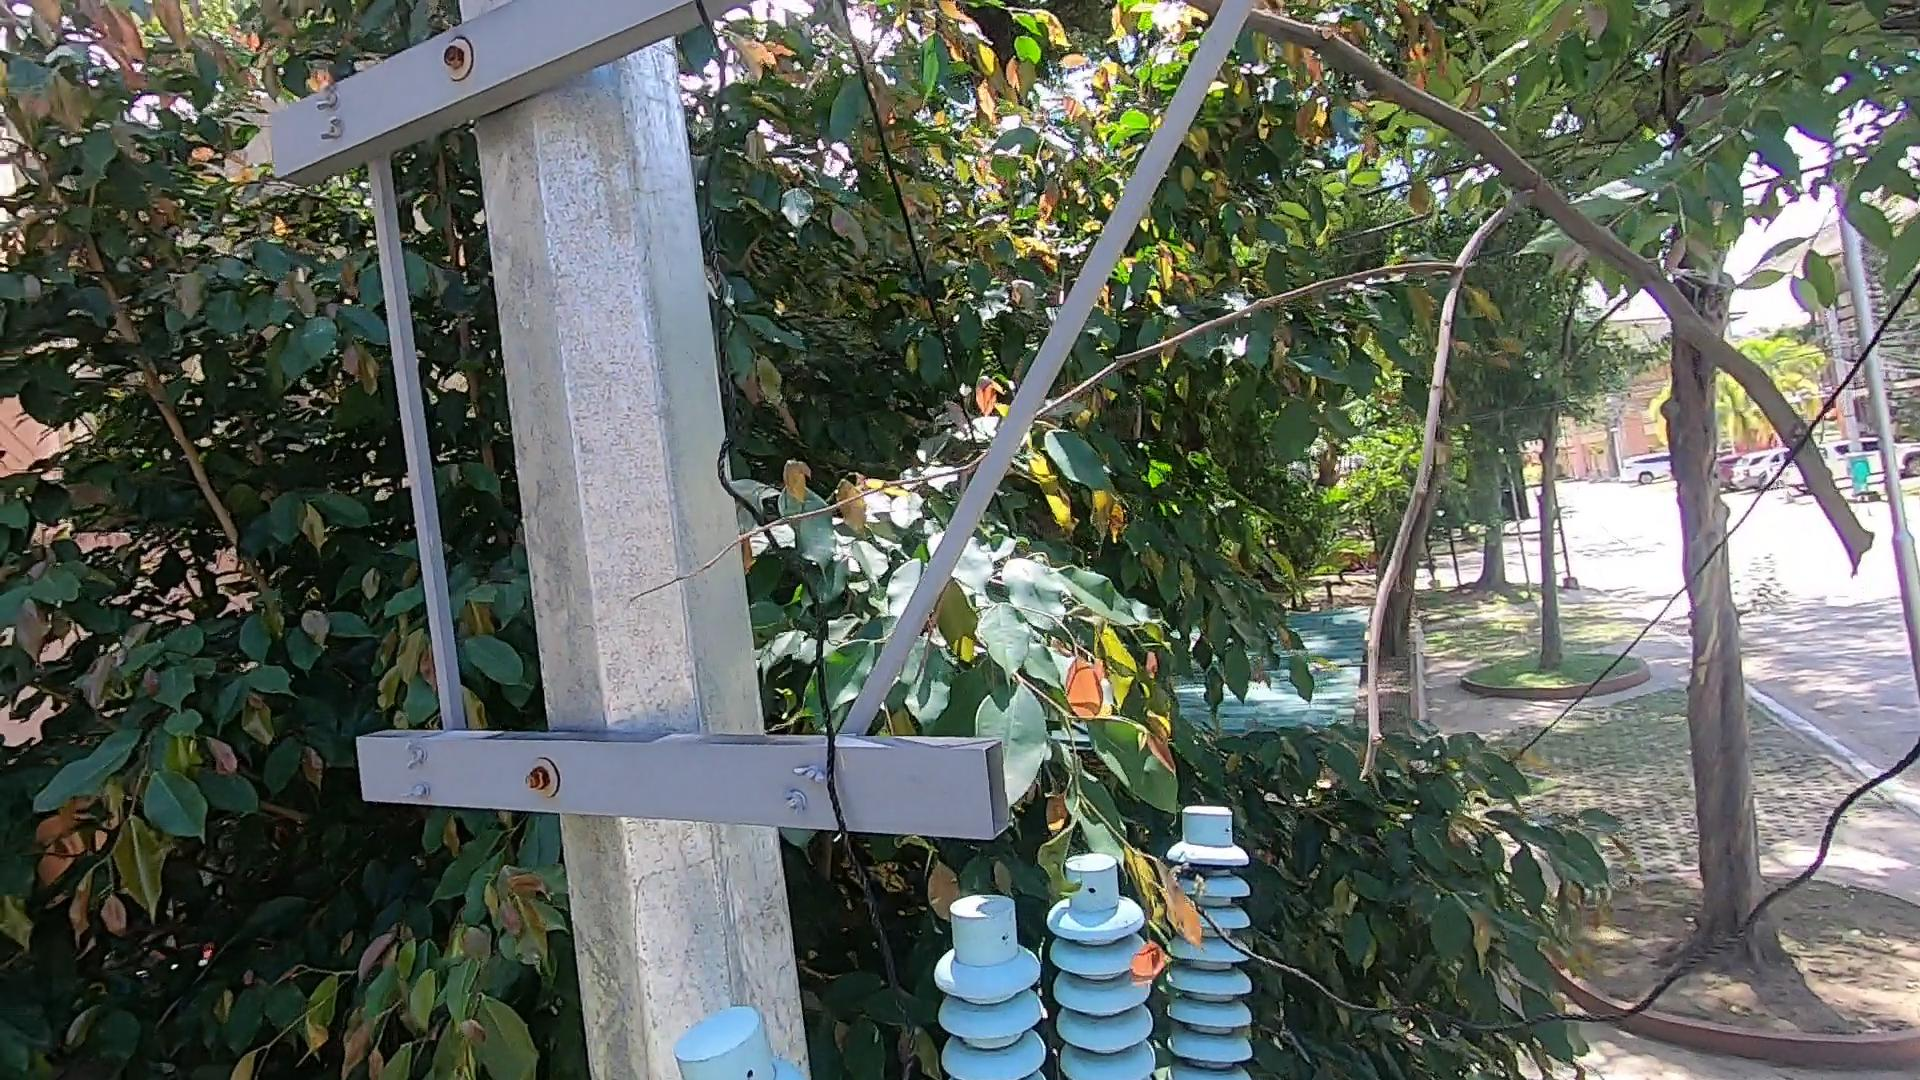branch with leaves: (1120, 849, 1208, 993)
tree branch: (1279, 3, 1870, 634)
